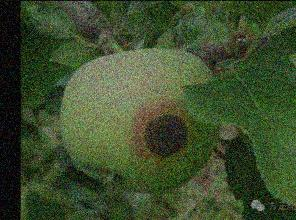rotten apple: (59, 48, 228, 195)
